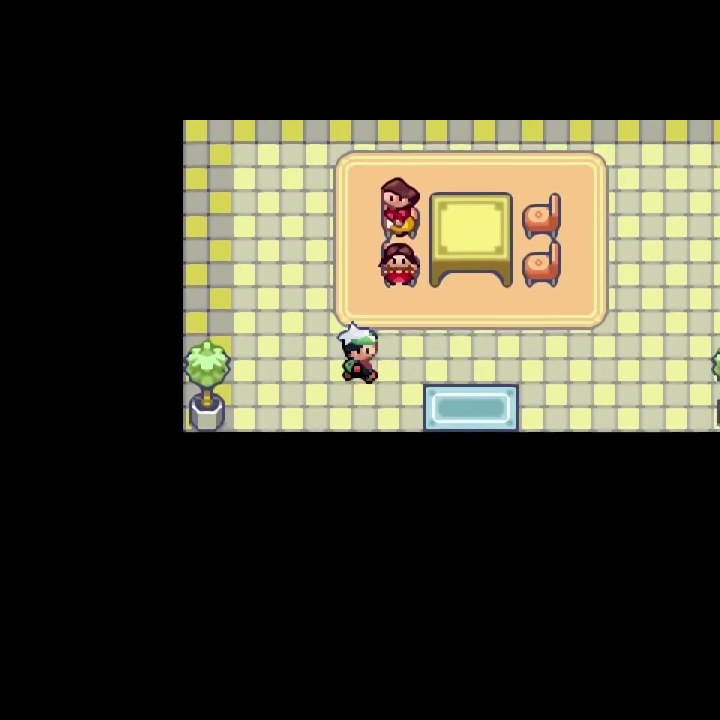agent: (336, 318, 384, 387)
exit: (421, 381, 523, 489)
npc: (379, 176, 423, 240), (378, 243, 423, 292)
